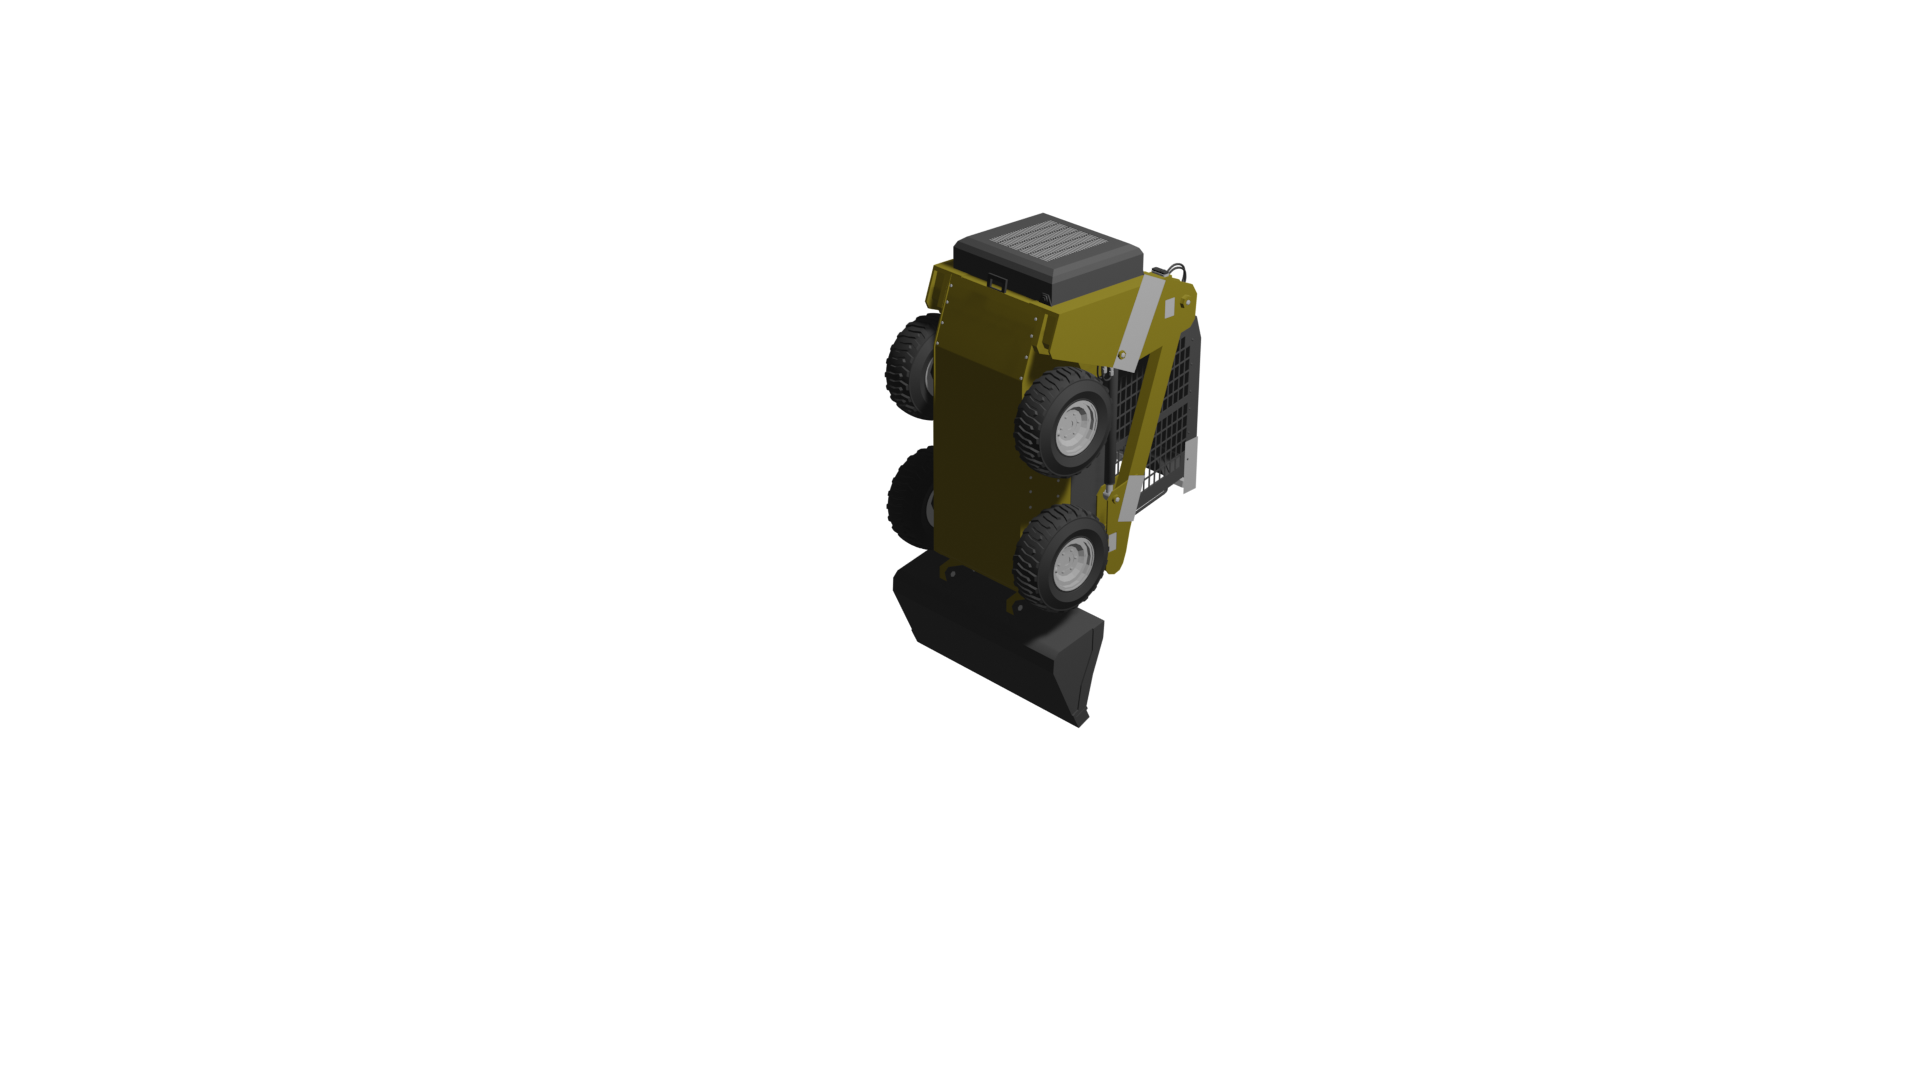skidsteer: (885, 214, 1201, 728)
